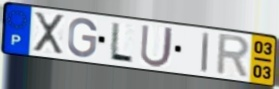G: (66, 17, 99, 60)
I: (200, 31, 212, 75)
L: (107, 21, 135, 65)
R: (214, 32, 253, 81)
U: (139, 23, 176, 70)
X: (33, 10, 66, 56)
